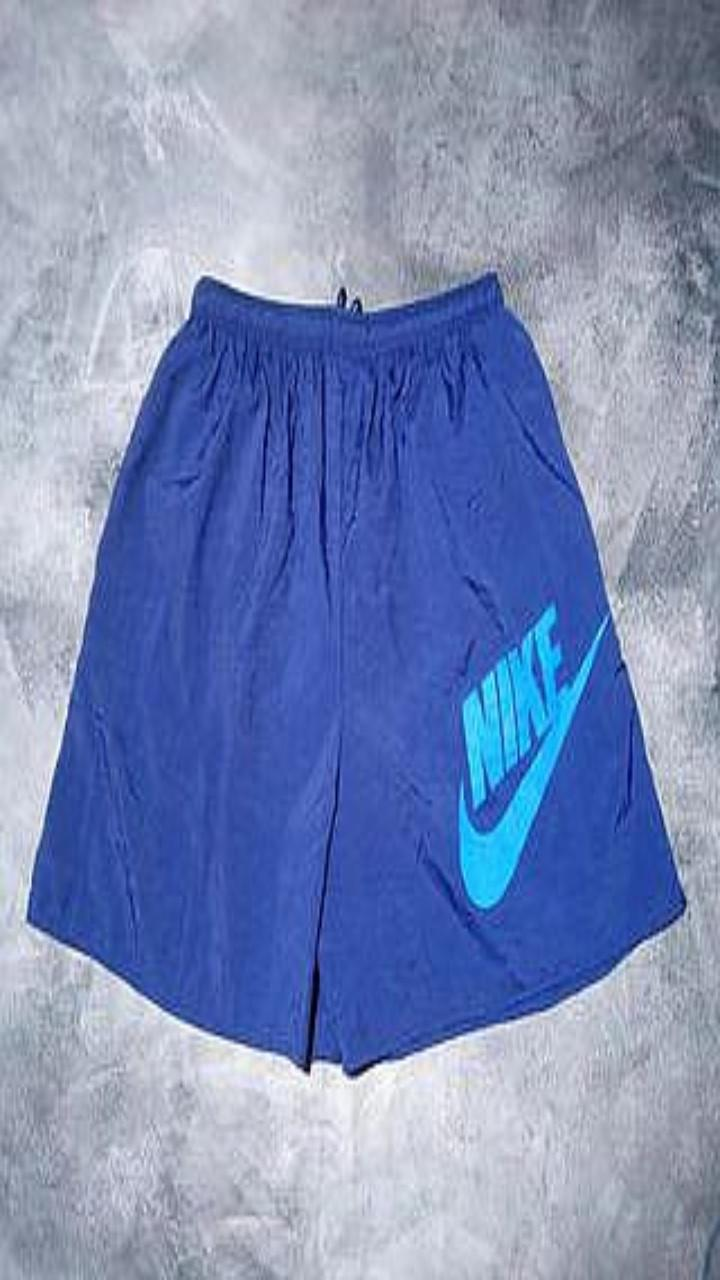Shorts: (27, 271, 684, 1073)
